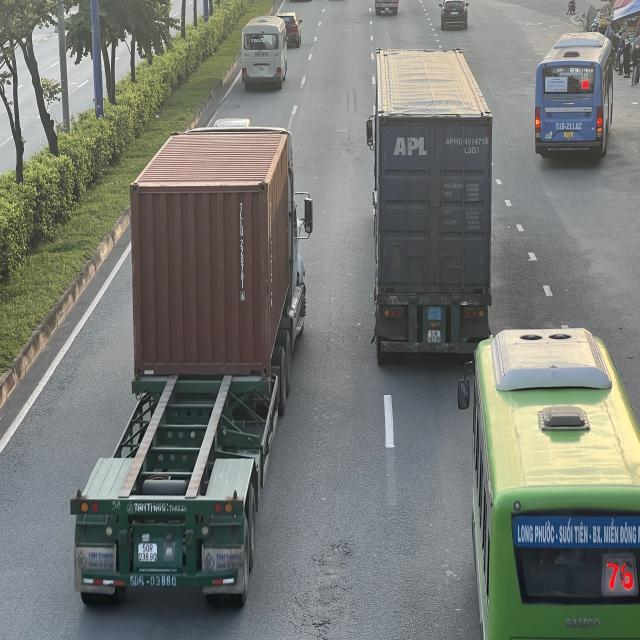car: (439, 0, 471, 30)
coach: (466, 324, 640, 636), (535, 33, 617, 160), (239, 17, 286, 90)
container: (69, 124, 308, 607), (370, 47, 496, 365)
